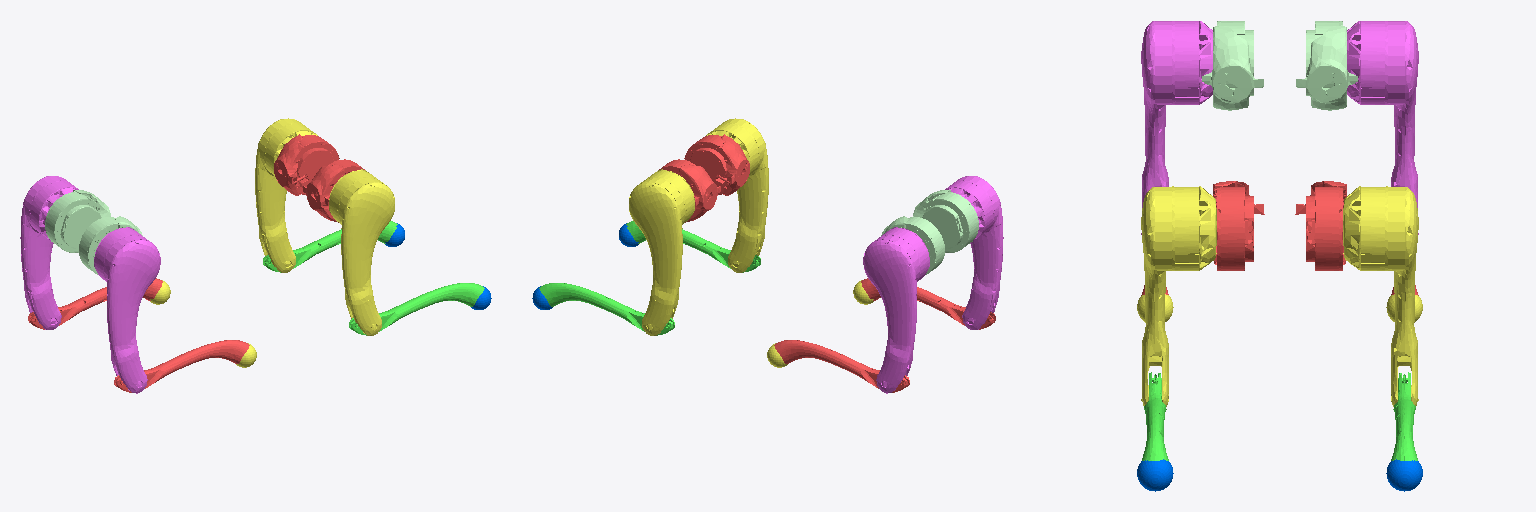
The robot description file, URDF, robot "grq20_v1d6_airy":
<robot name="grq20_v1d6_airy">
  <link name="base_link">
    <inertial>
      <origin xyz="0.0094498 -0.0090544 0.0024967" rpy="0 0 0" />
      <mass value="19.9426357" />
      <inertia ixx="0.12497" iyy="0.576588" izz="0.6287693" ixy="0.0004594" ixz="-0.0137517" iyz="-0.0004353"/>
    </inertial>
    <visual>
      <origin xyz="0 0 0" rpy="0 0 0" />
      <geometry>
        <mesh filename="./meshes/meshes_simplify/TRUCK.STL" scale="1 1 1"/>
      </geometry>
      <material name="">
        <color rgba="0.8 0.4 0 1" />
      </material>
    </visual>
    <collision>
      <origin xyz="0 0 -0.0145" rpy="0 0 0"/>
      <geometry>
        <box size="0.43 0.274 0.185" />
      </geometry>
    </collision>
    <collision>
      <origin xyz="0.3145 0 -0.003" rpy="0 0 0"/>
      <geometry>
        <box size="0.199 0.150 0.162" />
      </geometry>
    </collision>
    <collision>
      <origin xyz="0.3138 0 0.1195" rpy="0 0 0"/>
      <geometry>
        <box size="0.088 0.088 0.083" />
      </geometry>
    </collision>
    <collision>
      <origin xyz="-0.312 0 0" rpy="0 0 0"/>
      <geometry>
        <box size="0.194 0.12 0.148" />
      </geometry>
    </collision>
    <!-- template_collision_placeholder -->
  </link>

  <link name="FL_hip">
    <inertial>
      <origin xyz="-0.0034539 0.0001471 -0.0009605" rpy="0 0 0" />
      <mass value="1.6459372" />
      <inertia ixx="0.0004144" iyy="0.000796" izz="0.0005767" ixy="1e-05" ixz="1.5e-06" iyz="-1.4e-06"/>
    </inertial>
    <visual>
      <origin xyz="0 0 0" rpy="0 0 0" />
      <geometry>
        <mesh filename="./meshes/meshes_simplify/FL_HIP.STL" scale="1 1 1"/>
      </geometry>
      <material name="">
        <color rgba="1 0.4 0.4 1" />
      </material>
    </visual>
    <!-- <collision>
      <origin xyz="0 0 0" rpy="0 0 0"/>
      <geometry>
        <mesh filename="./meshes/meshes_simplify/FL_HIP.STL" scale="1 1 1"/>
      </geometry>
    </collision> -->
    <!-- template_collision_placeholder -->
  </link>

  <joint name="FL_hip_joint" type="revolute">
    <origin xyz="0.279 0.067 0" rpy="0 0 0" />
    <parent link="base_link" />
    <child link="FL_hip" />
    <axis xyz="1 0 0" />
    <limit lower="-0.78539815" upper="0.78539815" effort="120" velocity="12.0" />
  </joint>

  <link name="FL_thigh">
    <inertial>
      <origin xyz="-0.0028001 -0.0368096 -0.0239021" rpy="0 0 0" />
      <mass value="2.2115554" />
      <inertia ixx="0.012133" iyy="0.0117725" izz="0.0019164" ixy="0.0002099" ixz="-0.000542" iyz="0.0020399"/>
    </inertial>
    <visual>
      <origin xyz="0 0 0" rpy="0 0 0" />
      <geometry>
        <mesh filename="./meshes/meshes_simplify/FL_THIGH.STL" scale="1 1 1"/>
      </geometry>
      <material name="">
        <color rgba="1 1 0.4 1" />
      </material>
    </visual>
    <collision>
      <origin xyz="-0.025 0 -0.15" rpy="0 0 0"/>
      <geometry>
        <box size="0.05 0.02 0.18" />
      </geometry>
    </collision>
    <collision>
      <origin xyz="0 -0.065 0" rpy="1.57 1.57 0"/>
      <geometry>
        <cylinder radius="0.06" length="0.08" />
      </geometry>
    </collision>
    <!-- template_collision_placeholder -->
  </link>

  <joint name="FL_thigh_joint" type="revolute">
    <origin xyz="0 0.1103 0" rpy="0 0 0" />
    <parent link="FL_hip" />
    <child link="FL_thigh" />
    <axis xyz="0 1 0" />
    <limit lower="-1.762783" upper="3.647738" effort="120" velocity="12.0" />
  </joint>

  <link name="FL_calf">
    <inertial>
      <origin xyz="0.006276 6e-05 -0.1458107" rpy="0 0 0" />
      <mass value="0.3248308" />
      <inertia ixx="0.0041942" iyy="0.0042423" izz="9.93e-05" ixy="0" ixz="-3e-07" iyz="0"/>
    </inertial>
    <visual>
      <origin xyz="0 0 0" rpy="0 0 0" />
      <geometry>
        <mesh filename="./meshes/meshes_simplify/FL_CALF.STL" scale="1 1 1"/>
      </geometry>
      <material name="">
        <color rgba="0.4 1 0.4 1" />
      </material>
    </visual>
    <collision>
      <origin xyz="0.015 0.0 -0.235" rpy="0 0.5 0"/>
      <geometry>
        <box size="0.04 0.02 0.05" />
      </geometry>
    </collision>
    <collision>
      <origin xyz="0.0085 0.0 -0.092" rpy="0 -0.15 0"/>
      <geometry>
        <box size="0.032 0.02 0.27" />
      </geometry>
    </collision>
    <!-- template_collision_placeholder -->
  </link>

  <joint name="FL_calf_joint" type="revolute">
    <origin xyz="0 0 -0.26" rpy="0 0 0" />
    <parent link="FL_thigh" />
    <child link="FL_calf" />
    <axis xyz="0 1 0" />
    <limit lower="-2.740167" upper="-0.383972" effort="120" velocity="12.0" />
  </joint>

  <link name="FL_foot">
    <inertial>
      <origin xyz="0 0 0" rpy="0 0 0" />
      <mass value="0.04" />
      <inertia ixx="9.6e-06" ixy="0" ixz="0" iyy="9.6e-06" iyz="0" izz="9.6e-06" />
    </inertial>
    <visual>
      <origin xyz="0 0 0" rpy="0 0 0" />
      <geometry>
        <sphere radius="0.026" />
      </geometry>
      <material name="">
        <color rgba="0 0.5 1 1" />
      </material>
    </visual>
    <collision>
      <origin xyz="0 0 0" rpy="0 0 0"/>
      <geometry>
        <sphere radius="0.026" />
      </geometry>
    </collision>
    <!-- template_collision_placeholder -->
  </link>

  <joint name="FL_foot_joint" type="fixed" dont_collapse="true">
    <origin xyz="0 0 -0.26" rpy="0 0 0" />
    <parent link="FL_calf" />
    <child link="FL_foot" />
    <axis xyz="0 1 0" />
    <limit lower="0" upper="0" effort="0" velocity="0" />
  </joint>

  <link name="RL_hip">
    <inertial>
      <origin xyz="-0.0034539 0.0001471 -0.0009605" rpy="0 0 0" />
      <mass value="1.6459372" />
      <inertia ixx="0.0004144" iyy="0.000796" izz="0.0005767" ixy="-1e-05" ixz="-1.5e-06" iyz="-1.4e-06"/>
    </inertial>
    <visual>
      <origin xyz="0 0 0" rpy="0 0 0" />
      <geometry>
        <mesh filename="./meshes/meshes_simplify/RL_HIP.STL" scale="1 1 1"/>
      </geometry>
      <material name="">
        <color rgba="0.8 1.0 0.8 1" />
      </material>
    </visual>
    <!-- <collision>
      <origin xyz="0 0 0" rpy="0 0 0"/>
      <geometry>
        <mesh filename="./meshes/meshes_simplify/RL_HIP.STL" scale="1 1 1"/>
      </geometry>
    </collision> -->
    <!-- template_collision_placeholder -->
  </link>

  <joint name="RL_hip_joint" type="revolute">
    <origin xyz="-0.279 0.067 0" rpy="0 0 0" />
    <parent link="base_link" />
    <child link="RL_hip" />
    <axis xyz="1 0 0" />
    <limit lower="-0.78539815" upper="0.78539815" effort="120" velocity="12.0" />
  </joint>

  <link name="RL_thigh">
    <inertial>
      <origin xyz="-0.0028001 -0.0368096 -0.0239021" rpy="0 0 0" />
      <mass value="2.2115554" />
      <inertia ixx="0.012133" iyy="0.0117725" izz="0.0019164" ixy="0.0002099" ixz="-0.000542" iyz="0.0020399"/>
    </inertial>
    <visual>
      <origin xyz="0 0 0" rpy="0 0 0" />
      <geometry>
        <mesh filename="./meshes/meshes_simplify/FL_THIGH.STL" scale="1 1 1"/>
      </geometry>
      <material name="">
        <color rgba="1 0.5 1 1" />
      </material>
    </visual>
    <collision>
      <origin xyz="-0.025 0 -0.15" rpy="0 0 0"/>
      <geometry>
        <box size="0.05 0.02 0.18" />
      </geometry>
    </collision>
    <collision>
      <origin xyz="0 -0.065 0" rpy="1.57 1.57 0"/>
      <geometry>
        <cylinder radius="0.06" length="0.08" />
      </geometry>
    </collision>
    <!-- template_collision_placeholder -->
  </link>

  <joint name="RL_thigh_joint" type="revolute">
    <origin xyz="0 0.1103 0" rpy="0 0 0" />
    <parent link="RL_hip" />
    <child link="RL_thigh" />
    <axis xyz="0 1 0" />
    <limit lower="-1.762783" upper="3.647738" effort="120" velocity="12.0" />
  </joint>

  <link name="RL_calf">
    <inertial>
      <origin xyz="0.006276 6e-05 -0.1458107" rpy="0 0 0" />
      <mass value="0.3248308" />
      <inertia ixx="0.0041942" iyy="0.0042423" izz="9.93e-05" ixy="0" ixz="-3e-07" iyz="0"/>
    </inertial>
    <visual>
      <origin xyz="0 0 0" rpy="0 0 0" />
      <geometry>
        <mesh filename="./meshes/meshes_simplify/FL_CALF.STL" scale="1 1 1"/>
      </geometry>
      <material name="">
        <color rgba="1 0.4 0.4 1" />
      </material>
    </visual>
    <collision>
      <origin xyz="0.015 0.0 -0.235" rpy="0 0.5 0"/>
      <geometry>
        <box size="0.04 0.02 0.05" />
      </geometry>
    </collision>
    <collision>
      <origin xyz="0.0085 0.0 -0.092" rpy="0 -0.15 0"/>
      <geometry>
        <box size="0.032 0.02 0.27" />
      </geometry>
    </collision>
    <!-- template_collision_placeholder -->
  </link>

  <joint name="RL_calf_joint" type="revolute">
    <origin xyz="0 0 -0.26" rpy="0 0 0" />
    <parent link="RL_thigh" />
    <child link="RL_calf" />
    <axis xyz="0 1 0" />
    <limit lower="-2.740167" upper="-0.383972" effort="120" velocity="12.0" />
  </joint>

  <link name="RL_foot">
    <inertial>
      <origin xyz="0 0 0" rpy="0 0 0" />
      <mass value="0.04" />
      <inertia ixx="9.6e-06" ixy="0" ixz="0" iyy="9.6e-06" iyz="0" izz="9.6e-06" />
    </inertial>
    <visual>
      <origin xyz="0 0 0" rpy="0 0 0" />
      <geometry>
        <sphere radius="0.026" />
      </geometry>
      <material name="">
        <color rgba="1 1 0.4 1" />
      </material>
    </visual>
    <collision>
      <origin xyz="0 0 0" rpy="0 0 0"/>
      <geometry>
        <sphere radius="0.026" />
      </geometry>
    </collision>
    <!-- template_collision_placeholder -->
  </link>

  <joint name="RL_foot_joint" type="fixed" dont_collapse="true">
    <origin xyz="0 0 -0.26" rpy="0 0 0" />
    <parent link="RL_calf" />
    <child link="RL_foot" />
    <axis xyz="0 1 0" />
    <limit lower="0" upper="0" effort="0" velocity="0" />
  </joint>

  <link name="FR_hip">
    <inertial>
      <origin xyz="-0.0034539 -0.0001471 -0.0009605" rpy="0 0 0" />
      <mass value="1.6459372" />
      <inertia ixx="0.0004144" iyy="0.000796" izz="0.0005767" ixy="-1e-05" ixz="1.5e-06" iyz="1.4e-06"/>
    </inertial>
    <visual>
      <origin xyz="0 0 0" rpy="0 0 0" />
      <geometry>
        <mesh filename="./meshes/meshes_simplify/FL_HIP.STL" scale="1.0 -1.0 1.0"/>
      </geometry>
      <material name="">
        <color rgba="1 0.4 0.4 1" />
      </material>
    </visual>
    <!-- <collision>
      <origin xyz="0 0 0" rpy="0 0 0"/>
      <geometry>
        <mesh filename="./meshes/meshes_simplify/FL_HIP.STL" scale="1.0 -1.0 1.0"/>
      </geometry>
    </collision> -->
    <!-- template_collision_placeholder -->
  </link>

  <joint name="FR_hip_joint" type="revolute">
    <origin xyz="0.279 -0.067 0.0" rpy="-0.0 0.0 -0.0" />
    <parent link="base_link" />
    <child link="FR_hip" />
    <axis xyz="1 0 0" />
    <limit lower="-0.78539815" upper="0.78539815" effort="120" velocity="12.0" />
  </joint>

  <link name="FR_thigh">
    <inertial>
      <origin xyz="-0.0028001 0.0368096 -0.0239021" rpy="0 0 0" />
      <mass value="2.2115554" />
      <inertia ixx="0.012133" iyy="0.0117725" izz="0.0019164" ixy="-0.0002099" ixz="-0.000542" iyz="-0.0020399"/>
    </inertial>
    <visual>
      <origin xyz="0 0 0" rpy="0 0 0" />
      <geometry>
        <mesh filename="./meshes/meshes_simplify/FL_THIGH.STL" scale="1.0 -1.0 1.0"/>
      </geometry>
      <material name="">
        <color rgba="1 1 0.4 1" />
      </material>
    </visual>
    <collision>
      <origin xyz="-0.025 0 -0.15" rpy="0 0 0"/>
      <geometry>
        <box size="0.05 0.02 0.18" />
      </geometry>
    </collision>
    <collision>
      <origin xyz="0 0.065 0" rpy="1.57 1.57 0"/>
      <geometry>
        <cylinder radius="0.06" length="0.08" />
      </geometry>
    </collision>
    <!-- template_collision_placeholder -->
  </link>

  <joint name="FR_thigh_joint" type="revolute">
    <origin xyz="0.0 -0.1103 0.0" rpy="-0.0 0.0 -0.0" />
    <parent link="FR_hip" />
    <child link="FR_thigh" />
    <axis xyz="0 1 0" />
    <limit lower="-1.762783" upper="3.647738" effort="120" velocity="12.0" />
  </joint>

  <link name="FR_calf">
    <inertial>
      <origin xyz="0.006276 -6e-05 -0.1458107" rpy="0 0 0" />
      <mass value="0.3248308" />
      <inertia ixx="0.0041942" iyy="0.0042423" izz="9.93e-05" ixy="-0.0" ixz="-3e-07" iyz="-0.0"/>
    </inertial>
    <visual>
      <origin xyz="0 0 0" rpy="0 0 0" />
      <geometry>
        <mesh filename="./meshes/meshes_simplify/FL_CALF.STL" scale="1.0 -1.0 1.0"/>
      </geometry>
      <material name="">
        <color rgba="0.4 1 0.4 1" />
      </material>
    </visual>
    <collision>
      <origin xyz="0.015 0.0 -0.235" rpy="0 0.5 0"/>
      <geometry>
        <box size="0.04 0.02 0.05" />
      </geometry>
    </collision>
    <collision>
      <origin xyz="0.0085 0.0 -0.092" rpy="0 -0.15 0"/>
      <geometry>
        <box size="0.032 0.02 0.27" />
      </geometry>
    </collision>
    <!-- template_collision_placeholder -->
  </link>

  <joint name="FR_calf_joint" type="revolute">
    <origin xyz="0.0 -0.0 -0.26" rpy="-0.0 0.0 -0.0" />
    <parent link="FR_thigh" />
    <child link="FR_calf" />
    <axis xyz="0 1 0" />
    <limit lower="-2.740167" upper="-0.383972" effort="120" velocity="12.0" />
  </joint>

  <link name="FR_foot">
    <inertial>
      <origin xyz="0 0 0" rpy="0 0 0" />
      <mass value="0.04" />
      <inertia ixx="9.6e-06" ixy="0" ixz="0" iyy="9.6e-06" iyz="0" izz="9.6e-06" />
    </inertial>
    <visual>
      <origin xyz="0 0 0" rpy="0 0 0" />
      <geometry>
        <sphere radius="0.026" />
      </geometry>
      <material name="">
        <color rgba="0 0.5 1 1" />
      </material>
    </visual>
    <collision>
      <origin xyz="0 0 0" rpy="0 0 0"/>
      <geometry>
        <sphere radius="0.026" />
      </geometry>
    </collision>
    <!-- template_collision_placeholder -->
  </link>

  <joint name="FR_foot_joint" type="fixed" dont_collapse="true">
    <origin xyz="0.0 -0.0 -0.26" rpy="-0.0 0.0 -0.0" />
    <parent link="FR_calf" />
    <child link="FR_foot" />
    <axis xyz="0 1 0" />
    <limit lower="0" upper="0" effort="0" velocity="0" />
  </joint>

  <link name="RR_hip">
    <inertial>
      <origin xyz="-0.0034539 -0.0001471 -0.0009605" rpy="0 0 0" />
      <mass value="1.6459372" />
      <inertia ixx="0.0004144" iyy="0.000796" izz="0.0005767" ixy="1e-05" ixz="-1.5e-06" iyz="1.4e-06"/>
    </inertial>
    <visual>
      <origin xyz="0 0 0" rpy="0 0 0" />
      <geometry>
        <mesh filename="./meshes/meshes_simplify/RL_HIP.STL" scale="1.0 -1.0 1.0"/>
      </geometry>
      <material name="">
        <color rgba="0.8 1.0 0.8 1" />
      </material>
    </visual>
    <!-- <collision>
      <origin xyz="0 0 0" rpy="0 0 0"/>
      <geometry>
        <mesh filename="./meshes/meshes_simplify/RL_HIP.STL" scale="1.0 -1.0 1.0"/>
      </geometry>
    </collision> -->
    <!-- template_collision_placeholder -->
  </link>

  <joint name="RR_hip_joint" type="revolute">
    <origin xyz="-0.279 -0.067 0.0" rpy="-0.0 0.0 -0.0" />
    <parent link="base_link" />
    <child link="RR_hip" />
    <axis xyz="1 0 0" />
    <limit lower="-0.78539815" upper="0.78539815" effort="120" velocity="12.0" />
  </joint>

  <link name="RR_thigh">
    <inertial>
      <origin xyz="-0.0028001 0.0368096 -0.0239021" rpy="0 0 0" />
      <mass value="2.2115554" />
      <inertia ixx="0.012133" iyy="0.0117725" izz="0.0019164" ixy="-0.0002099" ixz="-0.000542" iyz="-0.0020399"/>
    </inertial>
    <visual>
      <origin xyz="0 0 0" rpy="0 0 0" />
      <geometry>
        <mesh filename="./meshes/meshes_simplify/FL_THIGH.STL" scale="1.0 -1.0 1.0"/>
      </geometry>
      <material name="">
        <color rgba="1 0.5 1 1" />
      </material>
    </visual>
    <collision>
      <origin xyz="-0.025 0 -0.15" rpy="0 0 0"/>
      <geometry>
        <box size="0.05 0.02 0.18" />
      </geometry>
    </collision>
    <collision>
      <origin xyz="0 0.065 0" rpy="1.57 1.57 0"/>
      <geometry>
        <cylinder radius="0.06" length="0.08" />
      </geometry>
    </collision>
    <!-- template_collision_placeholder -->
  </link>

  <joint name="RR_thigh_joint" type="revolute">
    <origin xyz="0.0 -0.1103 0.0" rpy="-0.0 0.0 -0.0" />
    <parent link="RR_hip" />
    <child link="RR_thigh" />
    <axis xyz="0 1 0" />
    <limit lower="-1.762783" upper="3.647738" effort="120" velocity="12.0" />
  </joint>

  <link name="RR_calf">
    <inertial>
      <origin xyz="0.006276 -6e-05 -0.1458107" rpy="0 0 0" />
      <mass value="0.3248308" />
      <inertia ixx="0.0041942" iyy="0.0042423" izz="9.93e-05" ixy="-0.0" ixz="-3e-07" iyz="-0.0"/>
    </inertial>
    <visual>
      <origin xyz="0 0 0" rpy="0 0 0" />
      <geometry>
        <mesh filename="./meshes/meshes_simplify/FL_CALF.STL" scale="1.0 -1.0 1.0"/>
      </geometry>
      <material name="">
        <color rgba="1 0.4 0.4 1" />
      </material>
    </visual>
    <collision>
      <origin xyz="0.015 0.0 -0.235" rpy="0 0.5 0"/>
      <geometry>
        <box size="0.04 0.02 0.05" />
      </geometry>
    </collision>
    <collision>
      <origin xyz="0.0085 0.0 -0.092" rpy="0 -0.15 0"/>
      <geometry>
        <box size="0.032 0.02 0.27" />
      </geometry>
    </collision>
    <!-- template_collision_placeholder -->
  </link>

  <joint name="RR_calf_joint" type="revolute">
    <origin xyz="0.0 -0.0 -0.26" rpy="-0.0 0.0 -0.0" />
    <parent link="RR_thigh" />
    <child link="RR_calf" />
    <axis xyz="0 1 0" />
    <limit lower="-2.740167" upper="-0.383972" effort="120" velocity="12.0" />
  </joint>

  <link name="RR_foot">
    <inertial>
      <origin xyz="0 0 0" rpy="0 0 0" />
      <mass value="0.04" />
      <inertia ixx="9.6e-06" ixy="0" ixz="0" iyy="9.6e-06" iyz="0" izz="9.6e-06" />
    </inertial>
    <visual>
      <origin xyz="0 0 0" rpy="0 0 0" />
      <geometry>
        <sphere radius="0.026" />
      </geometry>
      <material name="">
        <color rgba="1 1 0.4 1" />
      </material>
    </visual>
    <collision>
      <origin xyz="0 0 0" rpy="0 0 0"/>
      <geometry>
        <sphere radius="0.026" />
      </geometry>
    </collision>
    <!-- template_collision_placeholder -->
  </link>

  <joint name="RR_foot_joint" type="fixed" dont_collapse="true">
    <origin xyz="0.0 -0.0 -0.26" rpy="-0.0 0.0 -0.0" />
    <parent link="RR_calf" />
    <child link="RR_foot" />
    <axis xyz="0 1 0" />
    <limit lower="0" upper="0" effort="0" velocity="0" />
  </joint>

  <!-- urdf auto generate tool -->
</robot>

--- Render facts (derived) ---
The picture shows the robot from 3 angles, left to right: view 1: azimuth 30°, elevation 25°; view 2: azimuth 150°, elevation 25°; view 3: azimuth 270°, elevation 25°; orthographic projection.
Robot: grq20_v1d6_airy — 17 links, 16 joints (12 revolute, 4 fixed); root link base_link; default pose: joints at zero except 4 at the middle of their limits (FL_calf_joint = -1.56, RL_calf_joint = -1.56, FR_calf_joint = -1.56, RR_calf_joint = -1.56).
Visible links, largest first — view 1: FR_thigh, RR_thigh, RL_thigh, FL_thigh, RL_hip, FL_hip, RR_calf, FR_calf, FR_hip, RR_hip, RL_calf, FL_calf; view 2: FL_thigh, RL_thigh, RR_thigh, FR_thigh, RR_hip, FR_hip, RL_calf, FL_calf, FL_hip, RL_hip, RR_calf, FR_calf; view 3: FL_thigh, FR_thigh, RL_thigh, RR_thigh, RL_hip, RR_hip, FL_hip, FR_hip, FL_calf, FR_calf, FL_foot, FR_foot.
Boxes of the visible links, bbox=[...] form: FR_thigh: bbox=[329, 169, 394, 335]; RR_thigh: bbox=[94, 227, 160, 393]; RL_thigh: bbox=[20, 176, 78, 329]; FL_thigh: bbox=[255, 118, 317, 272]; RL_hip: bbox=[45, 190, 110, 252]; FL_hip: bbox=[274, 134, 339, 195]; RR_calf: bbox=[114, 340, 249, 392]; FR_calf: bbox=[349, 283, 484, 335]; FR_hip: bbox=[303, 159, 364, 222]; RR_hip: bbox=[79, 216, 142, 274]; RL_calf: bbox=[28, 278, 162, 329]; FL_calf: bbox=[263, 221, 397, 272]; FL_thigh: bbox=[629, 169, 694, 335]; RL_thigh: bbox=[863, 227, 929, 393]; RR_thigh: bbox=[945, 176, 1003, 329]; FR_thigh: bbox=[706, 118, 768, 272]; RR_hip: bbox=[913, 190, 978, 252]; FR_hip: bbox=[684, 134, 749, 195]; RL_calf: bbox=[774, 340, 909, 392]; FL_calf: bbox=[539, 283, 674, 335]; FL_hip: bbox=[659, 159, 720, 222]; RL_hip: bbox=[881, 216, 944, 274]; RR_calf: bbox=[861, 278, 995, 329]; FR_calf: bbox=[626, 221, 760, 272]; FL_thigh: bbox=[1343, 186, 1418, 406]; FR_thigh: bbox=[1141, 186, 1216, 406]; RL_thigh: bbox=[1347, 21, 1418, 234]; RR_thigh: bbox=[1141, 21, 1212, 234]; RL_hip: bbox=[1296, 21, 1357, 110]; RR_hip: bbox=[1202, 21, 1263, 110]; FL_hip: bbox=[1295, 181, 1346, 270]; FR_hip: bbox=[1213, 181, 1264, 270]; FL_calf: bbox=[1391, 372, 1417, 460]; FR_calf: bbox=[1142, 372, 1168, 460]; FL_foot: bbox=[1386, 459, 1422, 491]; FR_foot: bbox=[1137, 459, 1173, 491].
Bounding box of the posed robot: 0.9097 × 0.4066 × 0.3513 m (x, y, z).
12 mesh visuals loaded from 5 distinct referenced files (4 binary STL); not drawn: 1 (reference not matched to a file when rendering).
